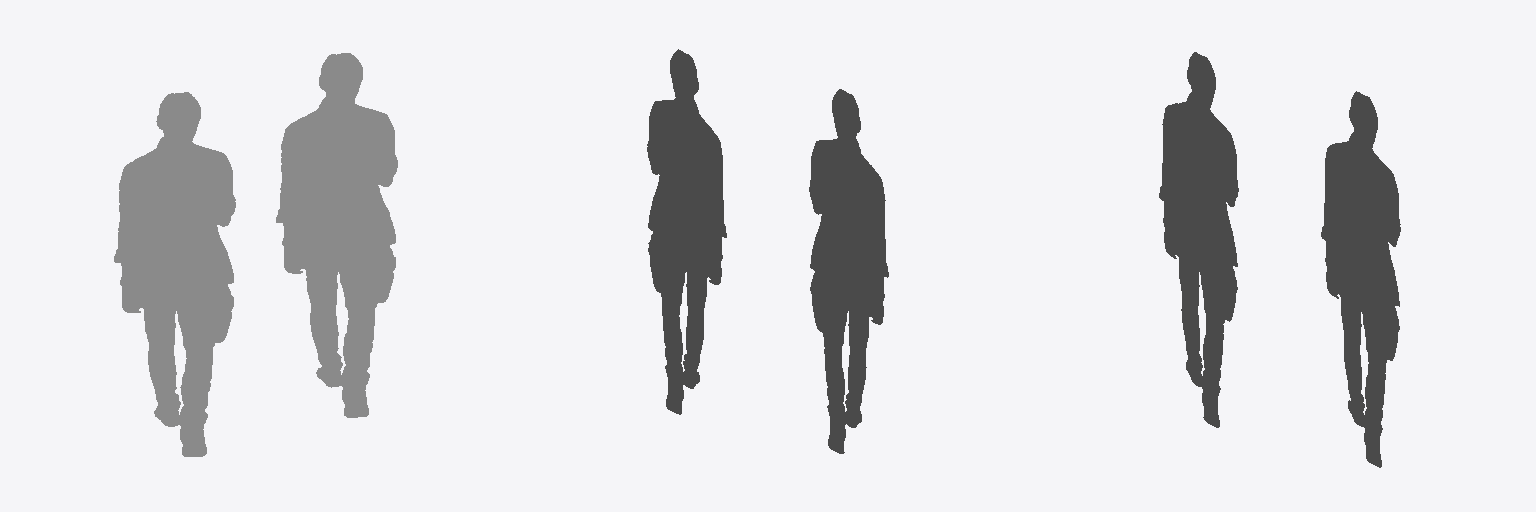
The picture shows the model from 3 angles: view 1: azimuth 30°, elevation 25°; view 2: azimuth 150°, elevation 25°; view 3: azimuth 330°, elevation 25°; orthographic projection.
Parts seen in each view (by area): view 1: my_self_01_001, my_self_01_1_001; view 2: my_self_01_001, my_self_01_1_001; view 3: my_self_01_001, my_self_01_1_001.
Boxes of the visible parts, x1=… form: my_self_01_001: x1=114, y1=92, x2=235, y2=456; my_self_01_1_001: x1=276, y1=53, x2=397, y2=417; my_self_01_001: x1=809, y1=89, x2=888, y2=453; my_self_01_1_001: x1=647, y1=49, x2=726, y2=414; my_self_01_001: x1=1159, y1=52, x2=1238, y2=427; my_self_01_1_001: x1=1321, y1=91, x2=1400, y2=467.
Size of the model in its own units: 1930 by 2562 by 271.